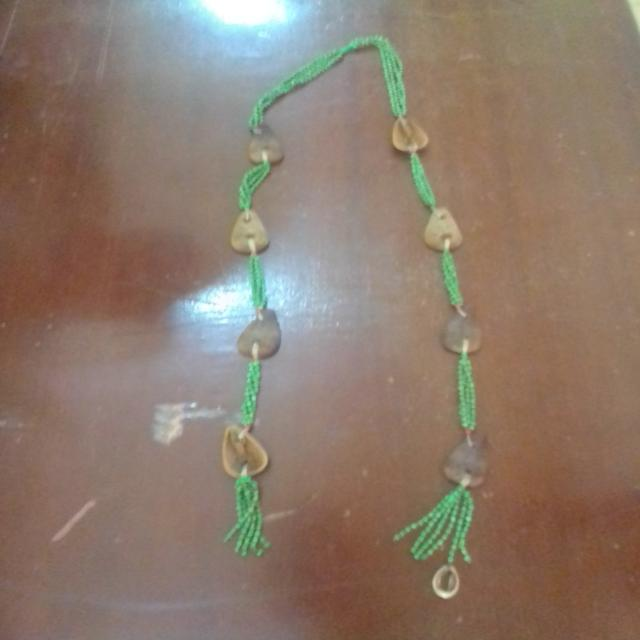facedown: (441, 421, 493, 492), (235, 310, 285, 362), (439, 306, 488, 356), (227, 206, 271, 258), (242, 125, 290, 170), (422, 206, 468, 252)
faceup: (217, 419, 270, 486), (388, 118, 432, 154)
